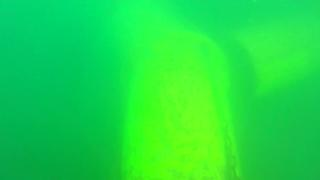pipe: (119, 31, 241, 179), (229, 21, 320, 95)
